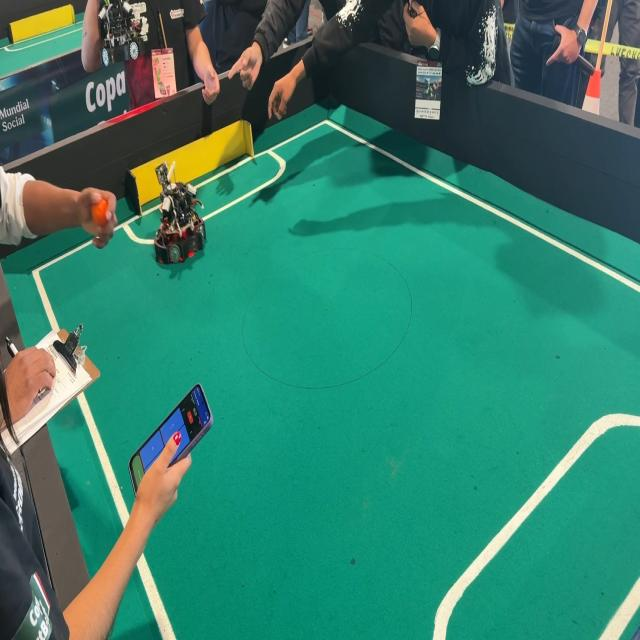Robot: (147, 159, 212, 276), (91, 0, 152, 71)
pelota: (86, 187, 115, 233)
